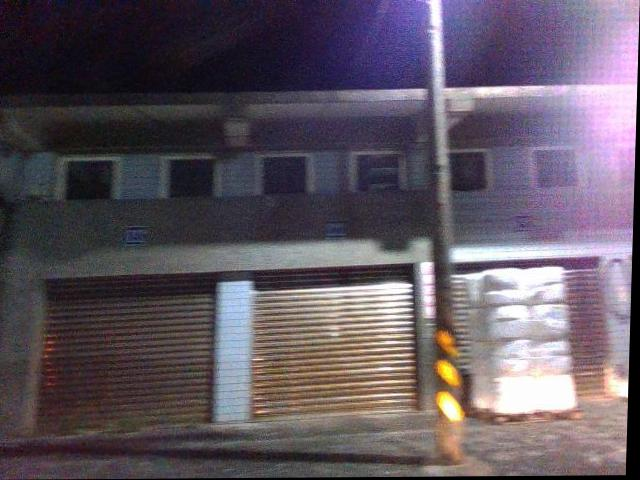pollute: (464, 270, 586, 426)
